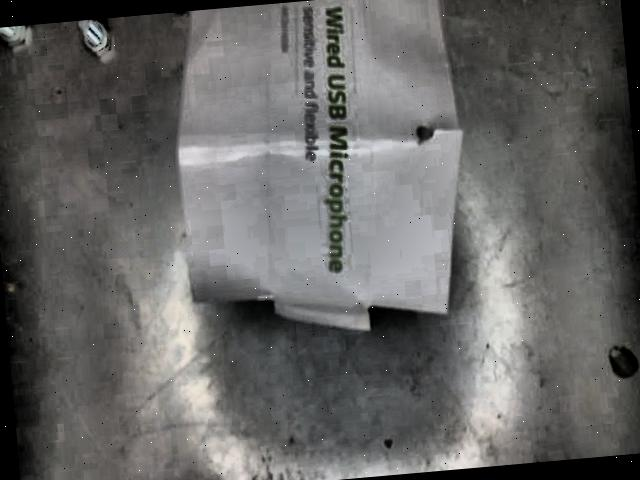Paper: (176, 0, 463, 331)
